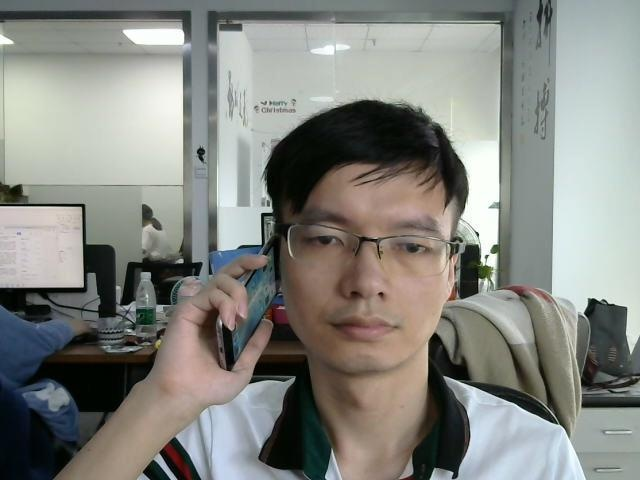hand: (172, 251, 266, 388)
